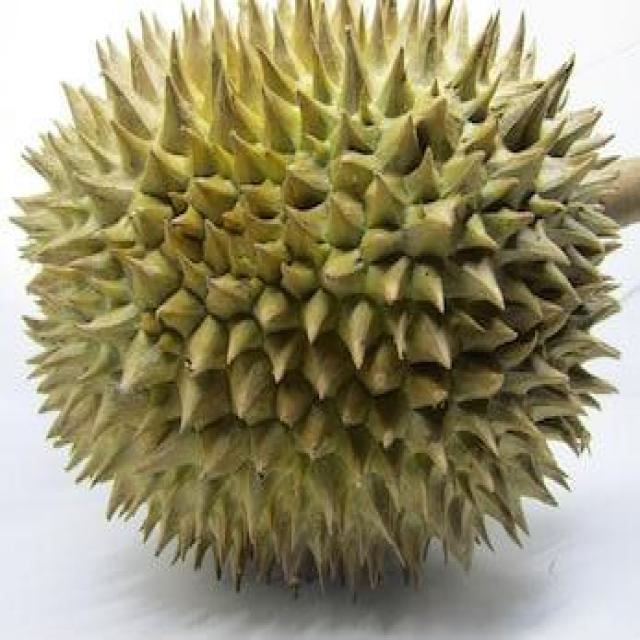immature: (10, 0, 624, 595)
